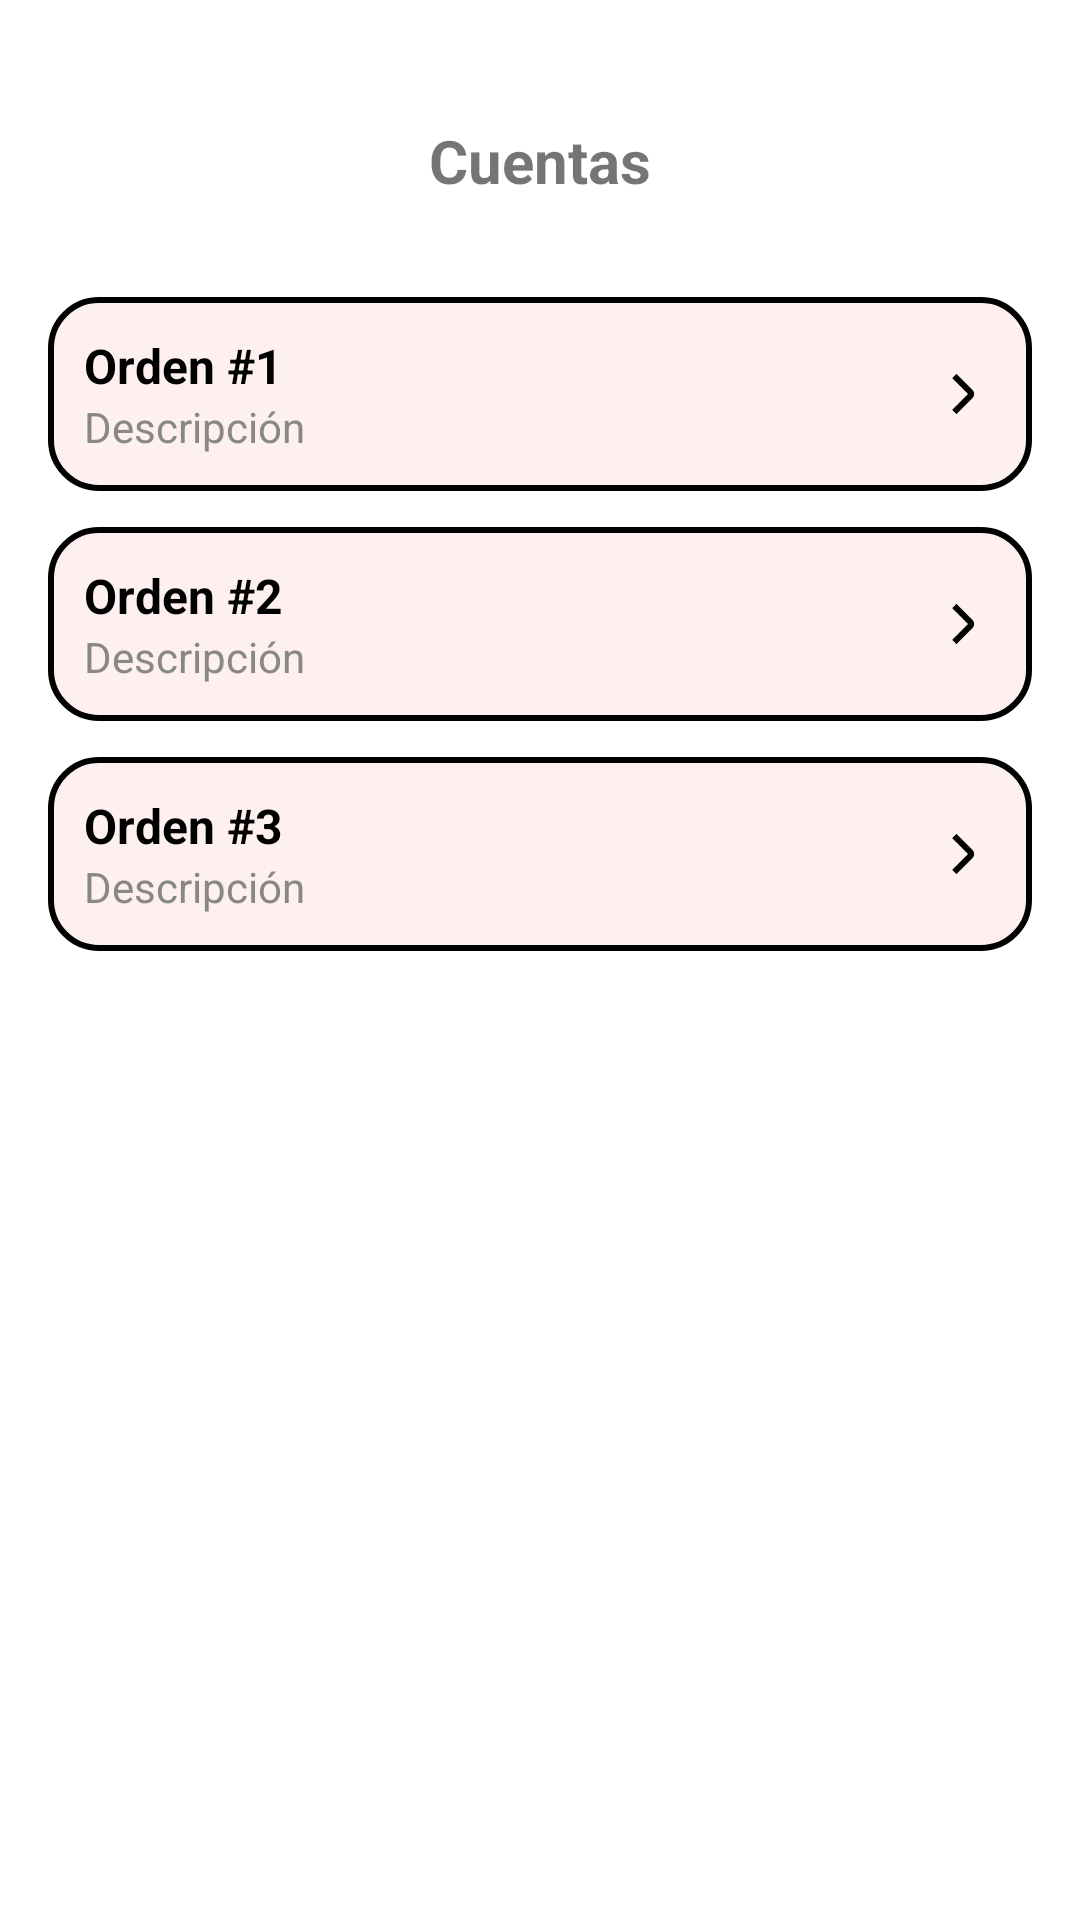

Icon click points for this 1080w x 1920h phone screenshot, format (x=x, y=y):
Ver más: (x=963, y=394), (x=963, y=624), (x=963, y=854)
